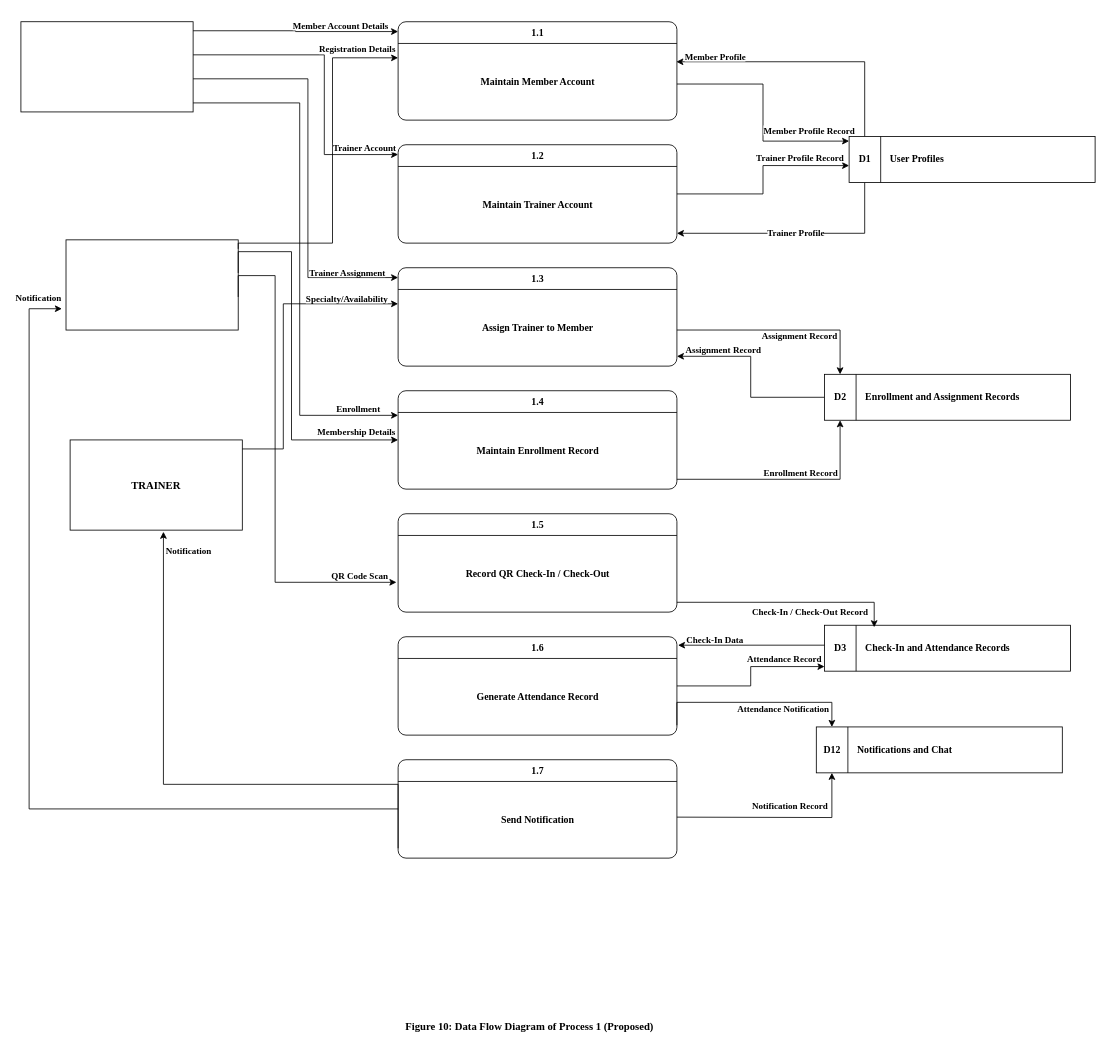
The diagram is 1109 pixels wide and 1052 high, and some of its shapes have lost their labels. The centre of each missing label's shape, as x and y in pixels:
ADMIN: [106,66]
MEMBER: [151,284]
